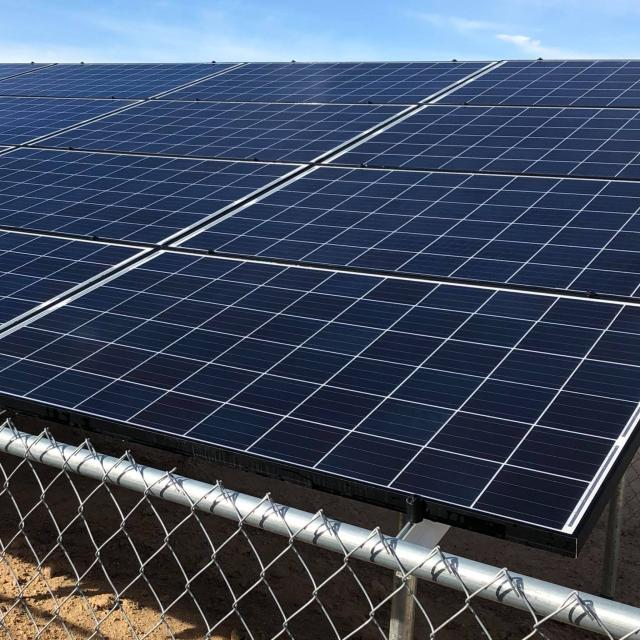clean-solar-panel: (1, 60, 640, 554)
